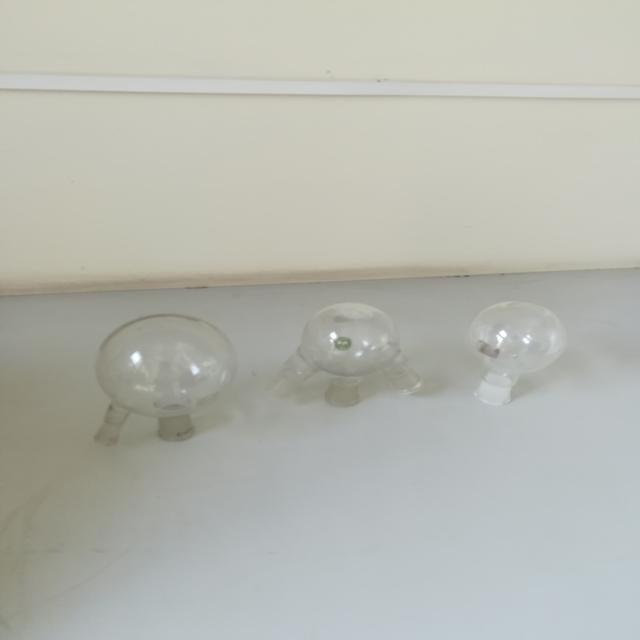Round_Bottom_Flask_Borosilicate_Glass_1_Neck: (448, 280, 588, 422)
Round_Bottom_Flask_Borosilicate_Glass_2_Neck: (50, 292, 254, 494)
Round_Bottom_Flask_Borosilicate_Glass_3_Neck: (265, 284, 437, 430)
